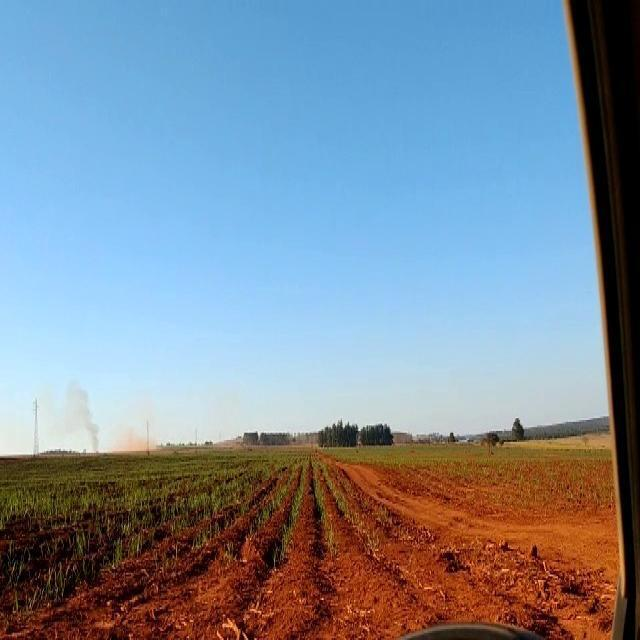Smoke: (71, 382, 103, 452)
